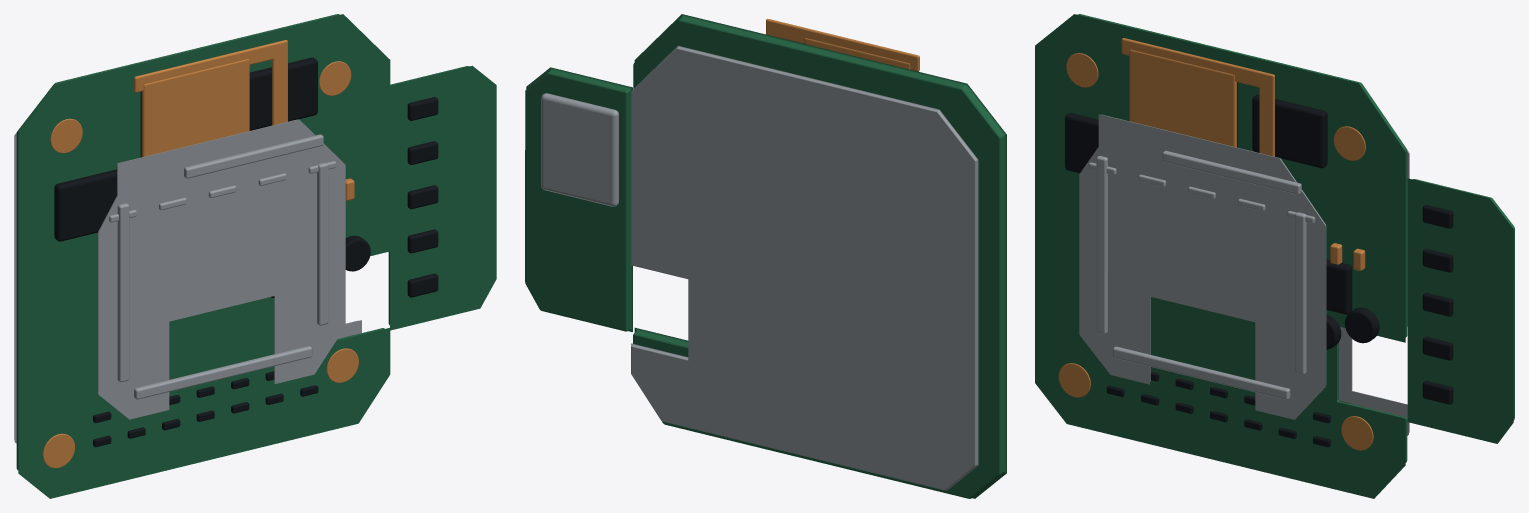
Rendered from 04_mainboard_thermal.glb.
3 views of the same model, side by side, from view 1: azimuth 30°, elevation 25°; view 2: azimuth 150°, elevation 25°; view 3: azimuth 330°, elevation 25° (orthographic).
Parts seen in each view (by area): view 1: Z50II-04-001_main_pcb.001, Z50II-04-006_front_emi_shield.001, Z50II-04-010_secondary_control_pcb.001, Z50II-04-009_heat_spreader.001, Z50II-04-003_memory_package_a.001, Z50II-04-004_memory_package_b.001, Z50II-04-006_front_emi_shield_left_rib.001, Z50II-04-006_front_emi_shield_bottom_rib.001, Z50II_heat_spreader_upper_fin.001, Z50II-04-006_front_emi_shield_right_rib.001, Z50II-04-006_front_emi_shield_top_rib.001, Z50II-04-007_rear_emi_shield.001 (+11 smaller); view 2: Z50II-04-007_rear_emi_shield.001, Z50II-04-001_main_pcb.001, Z50II-04-010_secondary_control_pcb.001, Z50II-04-011_rf_shield_can.001, Z50II_heat_spreader_upper_fin.001, Z50II-04-009_heat_spreader.001; view 3: Z50II-04-001_main_pcb.001, Z50II-04-006_front_emi_shield.001, Z50II-04-010_secondary_control_pcb.001, Z50II-04-009_heat_spreader.001, Z50II-04-004_memory_package_b.001, Z50II-04-006_front_emi_shield_bottom_rib.001, Z50II-04-006_front_emi_shield_left_rib.001, Z50II-04-007_rear_emi_shield.001, Z50II_heat_spreader_upper_fin.001, Z50II-04-006_front_emi_shield_right_rib.001, Z50II-04-006_front_emi_shield_top_rib.001, Z50II-04-003_memory_package_a.001 (+12 smaller).
Part boxes in pixels (bbox=[...]): Z50II-04-001_main_pcb.001: bbox=[16, 14, 390, 498]; Z50II-04-006_front_emi_shield.001: bbox=[98, 119, 345, 419]; Z50II-04-010_secondary_control_pcb.001: bbox=[388, 65, 496, 330]; Z50II-04-009_heat_spreader.001: bbox=[141, 59, 249, 157]; Z50II-04-003_memory_package_a.001: bbox=[54, 169, 116, 241]; Z50II-04-004_memory_package_b.001: bbox=[249, 57, 317, 130]; Z50II-04-006_front_emi_shield_left_rib.001: bbox=[117, 203, 129, 382]; Z50II-04-006_front_emi_shield_bottom_rib.001: bbox=[134, 346, 312, 399]; Z50II_heat_spreader_upper_fin.001: bbox=[134, 40, 287, 92]; Z50II-04-006_front_emi_shield_right_rib.001: bbox=[317, 162, 328, 325]; Z50II-04-006_front_emi_shield_top_rib.001: bbox=[184, 134, 323, 178]; Z50II-04-007_rear_emi_shield.001: bbox=[14, 133, 361, 443]; Z50II-04-007_rear_emi_shield.001: bbox=[631, 45, 978, 490]; Z50II-04-001_main_pcb.001: bbox=[633, 14, 1006, 498]; Z50II-04-010_secondary_control_pcb.001: bbox=[525, 67, 632, 331]; Z50II-04-011_rf_shield_can.001: bbox=[541, 93, 618, 206]; Z50II_heat_spreader_upper_fin.001: bbox=[766, 19, 919, 71]; Z50II-04-009_heat_spreader.001: bbox=[804, 38, 910, 69]; Z50II-04-001_main_pcb.001: bbox=[1035, 14, 1407, 498]; Z50II-04-006_front_emi_shield.001: bbox=[1079, 114, 1326, 419]; Z50II-04-010_secondary_control_pcb.001: bbox=[1407, 178, 1514, 443]; Z50II-04-009_heat_spreader.001: bbox=[1129, 49, 1236, 147]; Z50II-04-004_memory_package_b.001: bbox=[1252, 94, 1327, 168]; Z50II-04-006_front_emi_shield_bottom_rib.001: bbox=[1113, 346, 1290, 399]; Z50II-04-006_front_emi_shield_left_rib.001: bbox=[1096, 156, 1107, 334]; Z50II-04-007_rear_emi_shield.001: bbox=[1338, 149, 1409, 435]; Z50II_heat_spreader_upper_fin.001: bbox=[1121, 38, 1274, 89]; Z50II-04-006_front_emi_shield_right_rib.001: bbox=[1295, 212, 1306, 374]; Z50II-04-006_front_emi_shield_top_rib.001: bbox=[1162, 150, 1301, 194]; Z50II-04-003_memory_package_a.001: bbox=[1065, 113, 1098, 173].
Size of the model in its own units: 0.0625 by 0.0517 by 0.00864.
